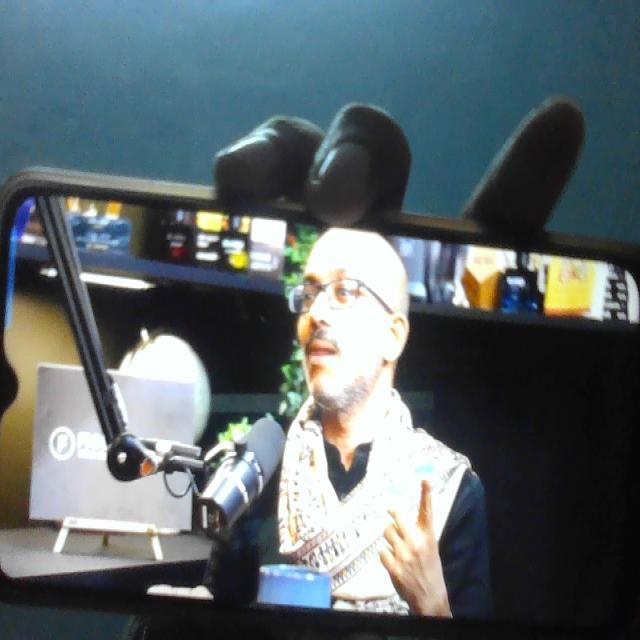fake: (282, 178, 409, 418)
